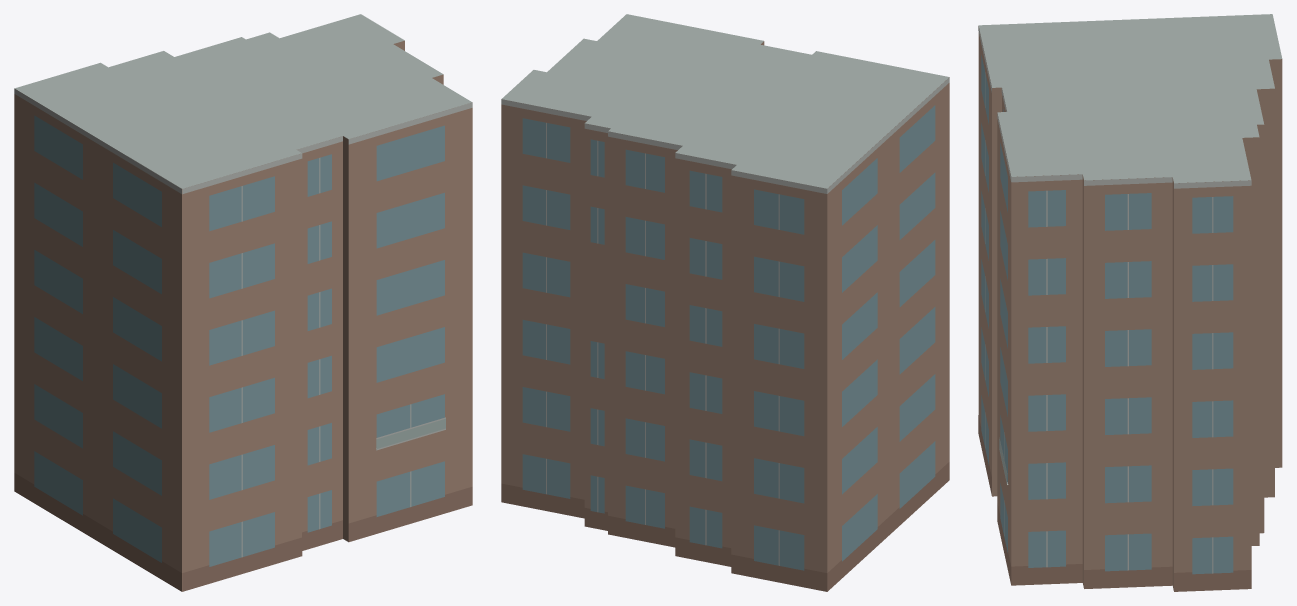
Rendered from survey-upis-32610183.glb.
3 views of the same model, side by side, from view 1: azimuth 30°, elevation 25°; view 2: azimuth 150°, elevation 25°; view 3: azimuth 270°, elevation 25° (orthographic).
Parts seen in each view (by area): view 1: survey-upis-32610183.tmp; view 2: survey-upis-32610183.tmp; view 3: survey-upis-32610183.tmp.
Part boxes in pixels (x1,y1,x2,y2): survey-upis-32610183.tmp: (14, 14, 472, 591); survey-upis-32610183.tmp: (501, 14, 949, 591); survey-upis-32610183.tmp: (978, 14, 1282, 591).
Bounding box in the file's own units: 16.27 × 18.3 × 12.34.
